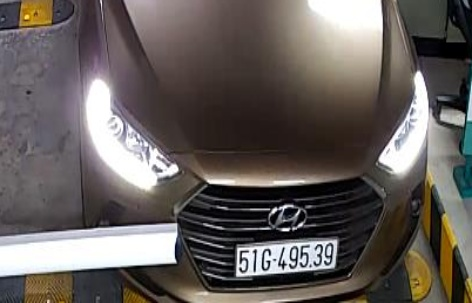plate: (231, 234, 336, 275)
